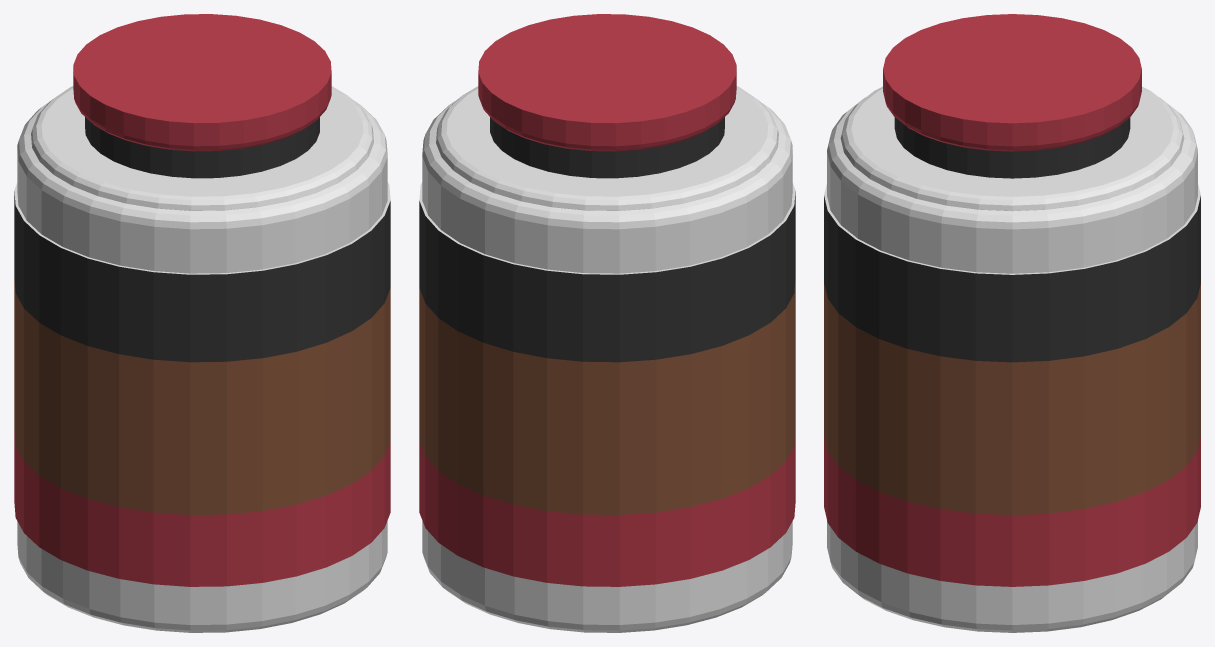
File: Protein.fbx
3 views of the same model, side by side, from view 1: azimuth 30°, elevation 25°; view 2: azimuth 150°, elevation 25°; view 3: azimuth 270°, elevation 25° (orthographic).
Visible parts, largest first — view 1: Circle; view 2: Circle; view 3: Circle.
Boxes of the visible parts, x1,y1,x2,y2 form: Circle: (14,14,390,632); Circle: (419,14,795,632); Circle: (824,14,1200,632).
Size of the model in its own units: 203 by 292 by 203.
